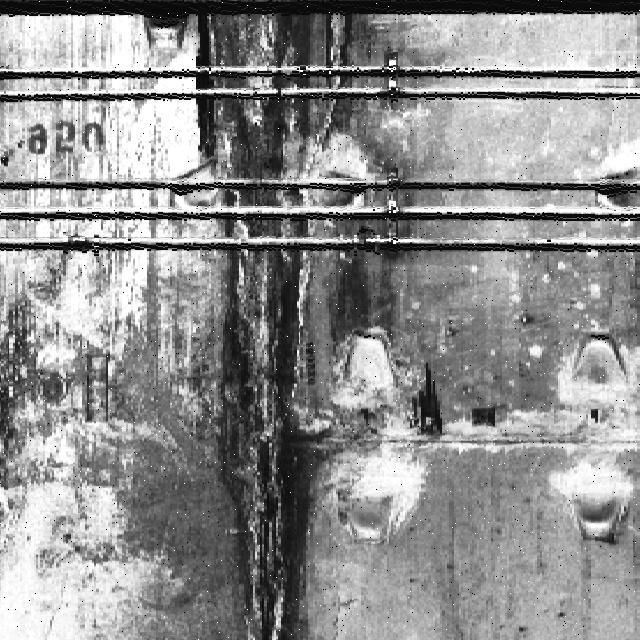leakage: (155, 15, 413, 640)
